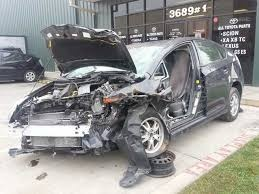Smashed: (7, 64, 167, 163)
